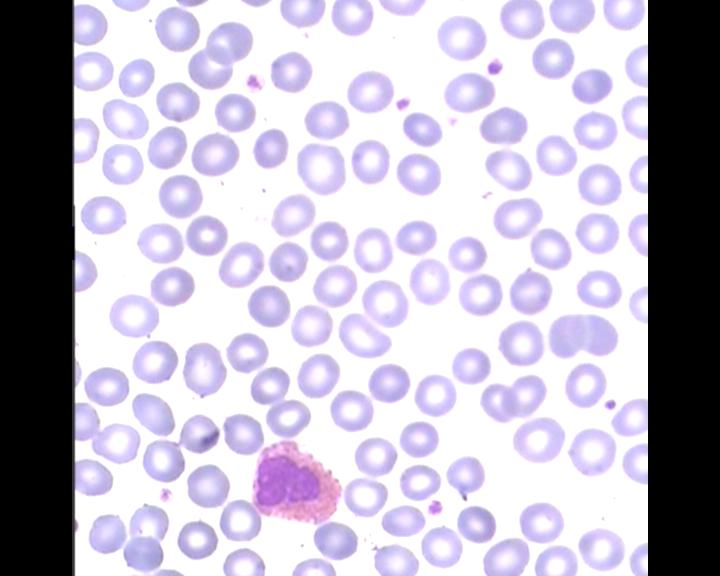eosi: (250, 439, 347, 526)
